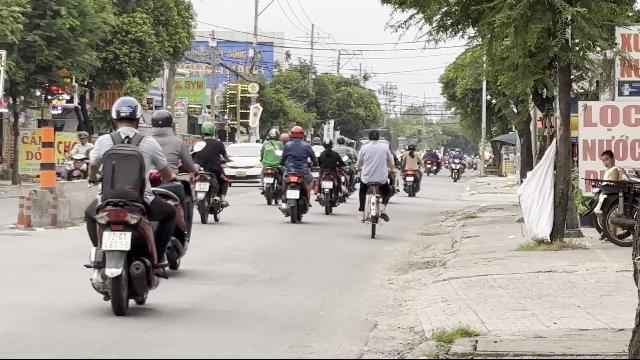helmet: (110, 96, 142, 128), (150, 108, 174, 134)
licenseplate: (102, 231, 130, 250)
motorcyclist: (78, 94, 188, 314), (142, 106, 194, 270)
